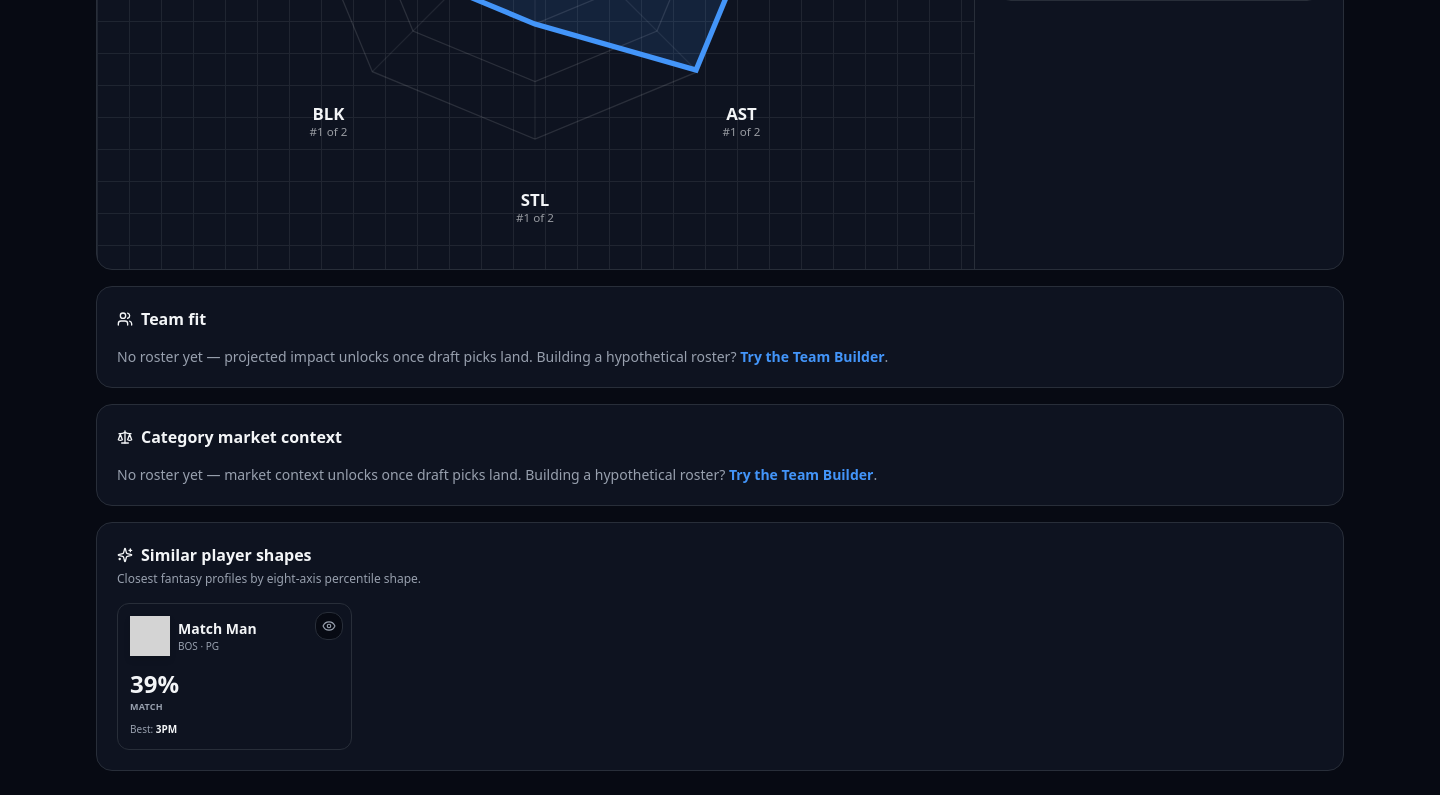
Scenario: PlayerLabPage › promotes a similar-shape match to the main player via its view action
The image size is (1440, 795).
(page scrolled)
Expected: the text "Match Man" is shown, [178,618,257,638]
What coordinates should you click on to do the following:
click the button named "View Match Man"
I would click on:
 (329, 626)
Its box is [315,612,343,640].
(page scrolled)
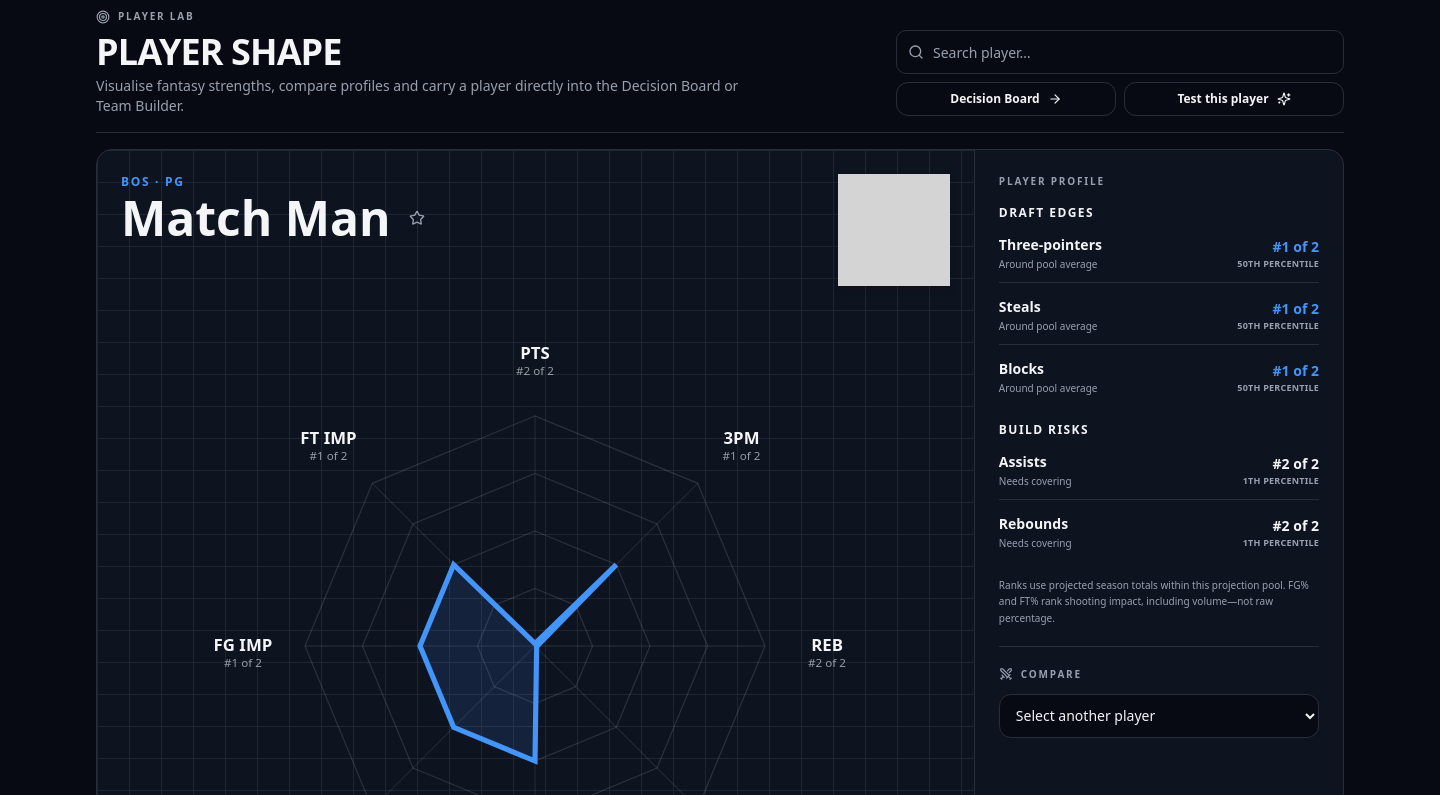
Result: the heading "Match Man" is shown at [121,194,391,242]
